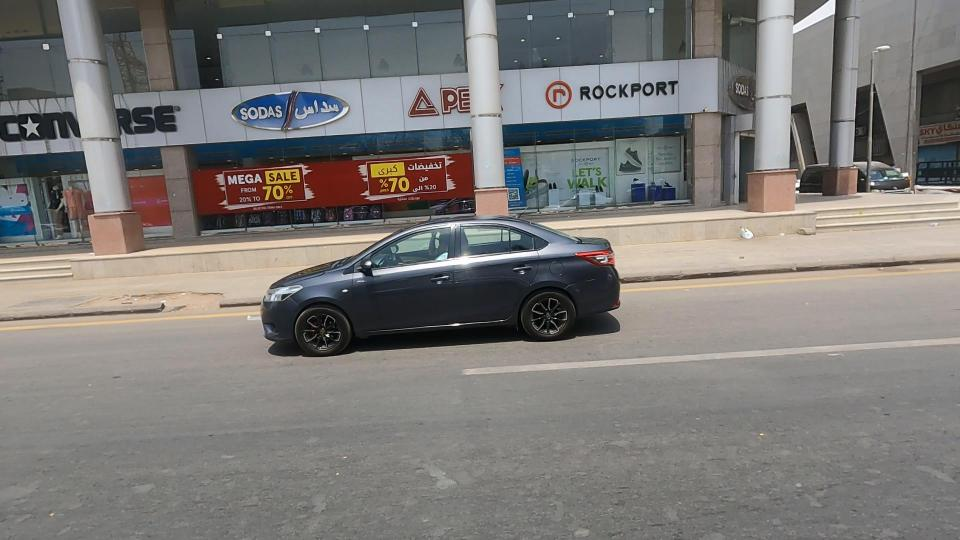GARBAGE: (714, 201, 775, 258)
